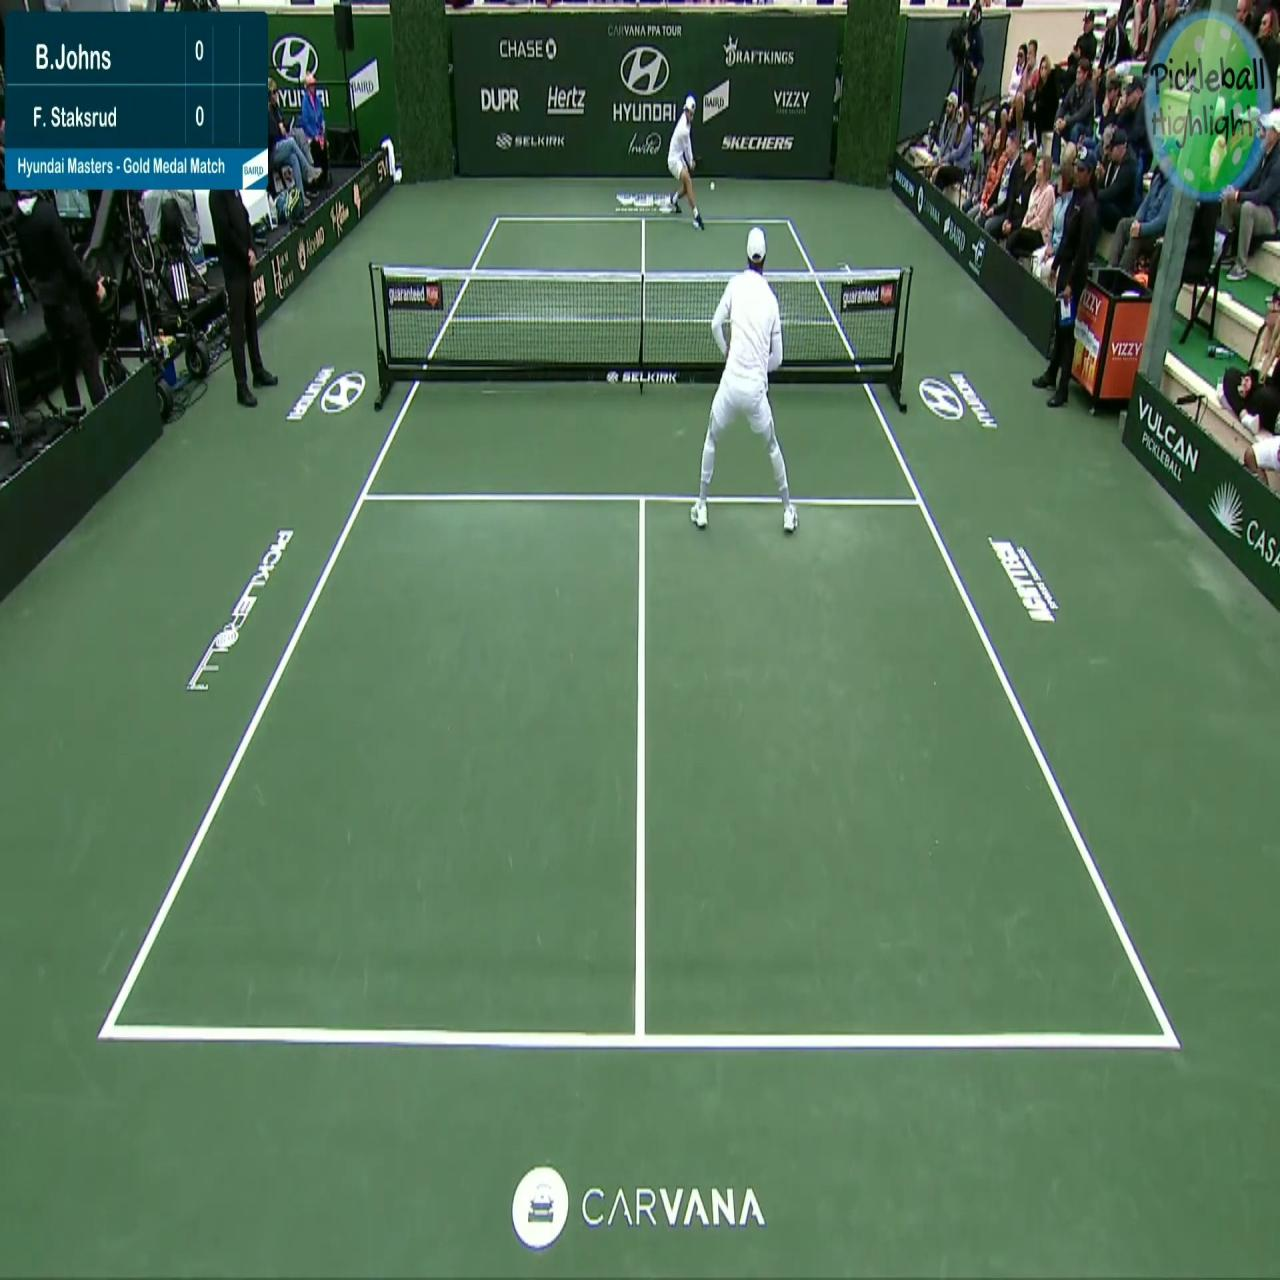pickleball: (708, 179, 716, 191)
